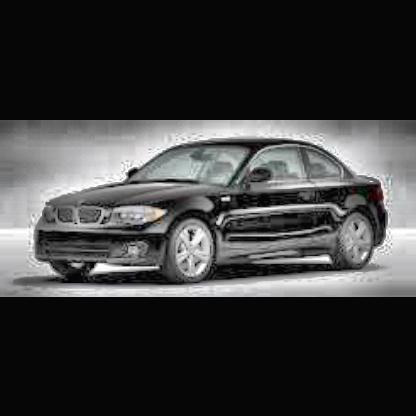BMW 1 Series Coupe 2012: (37, 139, 388, 287)
